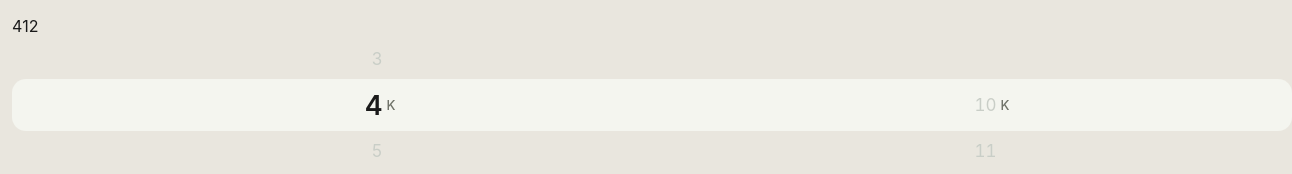
Test case: 内嵌双滚轮 可访问合同 › 点击非当前 option 直接选择并把焦点留在所属 listbox
(page scrolled)
Click the option "10". click: coordinates (986, 105)
box: x1=974 y1=95 x2=996 y2=115
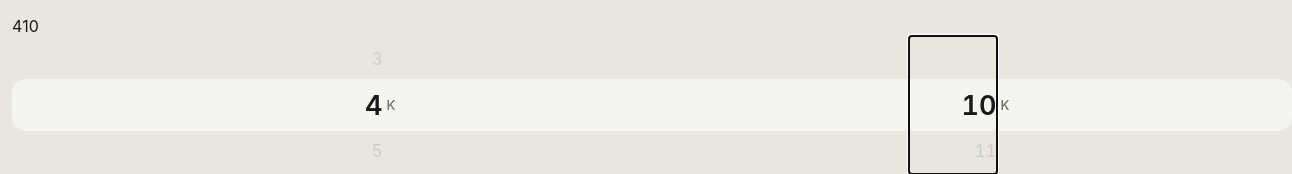
Check: the text named "左值" reads "4", box x1=12 y1=16 x2=22 y2=36
Check: the text named "右值" reads "10", box x1=22 y1=16 x2=39 y2=36
